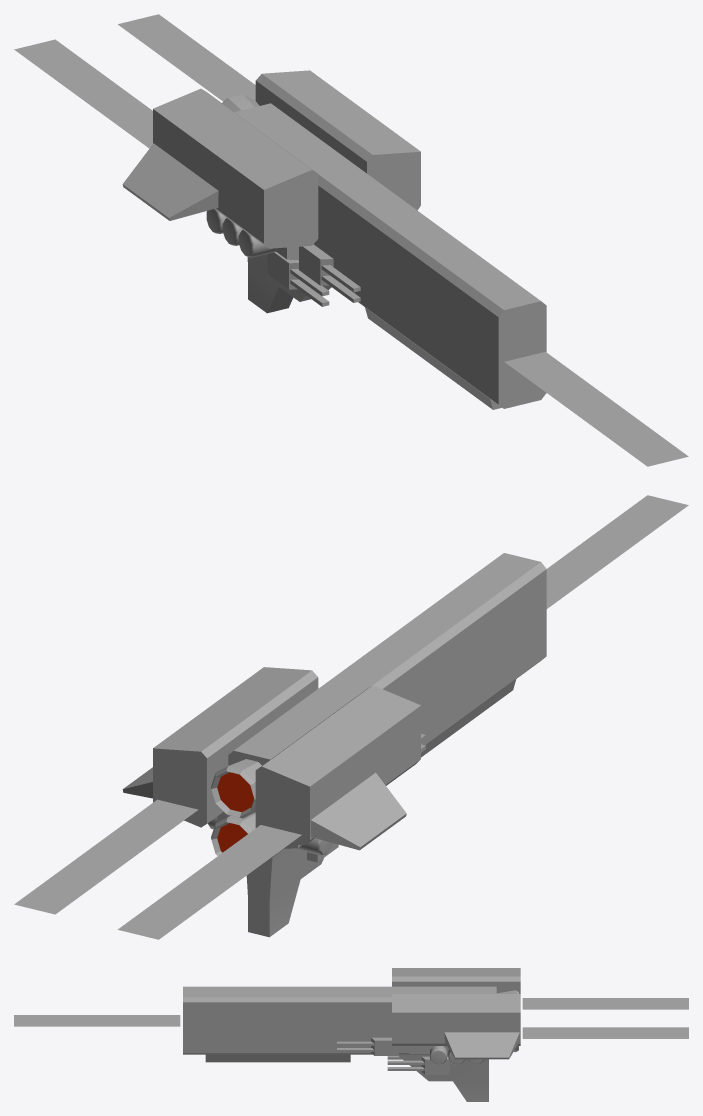
The model's file is EnemyshipModel.fbx.
3 views of the same model, one above another, from view 1: azimuth 30°, elevation 25°; view 2: azimuth 150°, elevation 25°; view 3: azimuth 270°, elevation 25° (orthographic). The views are drawn at different scales.
Parts seen in each view (by area): view 1: DeckBody, Container_R, Container_L, GuideBeaconPlane, GuideBeaconPlaneR, GuideBeaconPlaneL, ContainerWing_R, Bridge, mainCannon, MainCannon_R_Upper3, MainCannon_R_Bottom3; view 2: DeckBody, Container_R, Container_L, GuideBeaconPlaneR, GuideBeaconPlaneL, GuideBeaconPlane, ContainerWing_R, Bridge, MainEngine, MainEngine1, mainCannon; view 3: DeckBody, Container_L, Container_R, GuideBeaconPlane, GuideBeaconPlaneR, GuideBeaconPlaneL, ContainerWing_L, Bridge, mainCannon, MainCannon_L_Upper3, MainCannon_L_Bottom3, FuelTank_L2.
Boxes of the visible parts, box(x1,y1,x2,y2) form: DeckBody: box(234, 103, 546, 408); Container_R: box(153, 88, 318, 248); Container_L: box(255, 70, 420, 210); GuideBeaconPlane: box(504, 352, 688, 466); GuideBeaconPlaneR: box(14, 39, 152, 148); GuideBeaconPlaneL: box(118, 14, 255, 101); ContainerWing_R: box(122, 143, 218, 220); Bridge: box(247, 254, 331, 313); mainCannon: box(365, 307, 501, 409); MainCannon_R_Upper3: box(299, 244, 333, 285); MainCannon_R_Bottom3: box(267, 252, 298, 289); DeckBody: box(228, 553, 546, 858); Container_R: box(255, 685, 420, 845); Container_L: box(153, 667, 318, 827); GuideBeaconPlaneR: box(117, 825, 301, 939); GuideBeaconPlaneL: box(14, 799, 198, 914); GuideBeaconPlane: box(546, 495, 688, 608); ContainerWing_R: box(310, 772, 406, 850); Bridge: box(246, 848, 323, 937); MainEngine: box(211, 759, 261, 818); MainEngine1: box(211, 812, 255, 855); mainCannon: box(421, 679, 516, 757); DeckBody: box(183, 986, 496, 1054); Container_L: box(392, 994, 520, 1045); Container_R: box(392, 968, 520, 993); GuideBeaconPlane: box(14, 1015, 180, 1026); GuideBeaconPlaneR: box(522, 998, 688, 1009); GuideBeaconPlaneL: box(522, 1027, 688, 1038); ContainerWing_L: box(444, 1032, 519, 1059); Bridge: box(399, 1054, 488, 1101); mainCannon: box(205, 1054, 350, 1062); MainCannon_L_Upper3: box(371, 1037, 398, 1055); MainCannon_L_Bottom3: box(421, 1056, 449, 1074); FuelTank_L2: box(430, 1046, 446, 1064).
Bounding box in the file's own units: 5.75 × 4.52 × 24.36.
